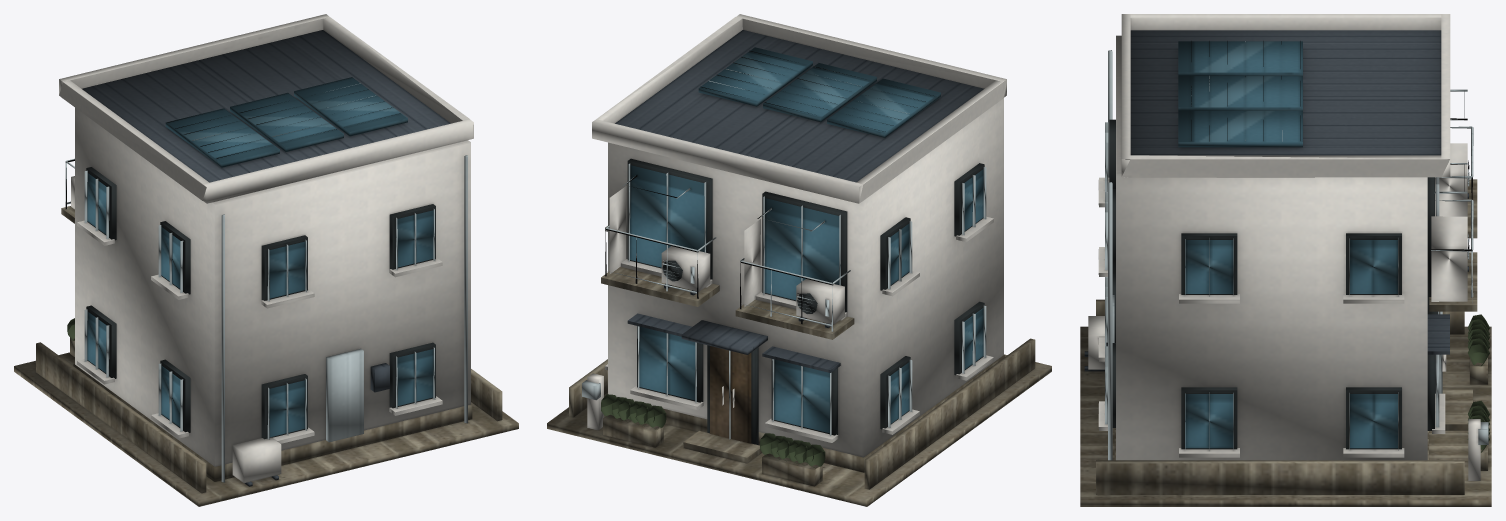
Rendered from residential_012.obj.
3 renders of one model, left to right at view 1: azimuth 30°, elevation 25°; view 2: azimuth 150°, elevation 25°; view 3: azimuth 270°, elevation 25°, orthographic. The views are drawn at different scales.
Visible parts, largest first — view 1: residential_012; view 2: residential_012; view 3: residential_012.
Boxes of the visible parts, x1,y1,x2,y2 form: residential_012: (14,14,518,506); residential_012: (547,14,1051,506); residential_012: (1080,14,1491,506).
Size of the model in its own units: 7.25 by 6.49 by 7.25.
Materials: 1 (1 with a texture image).
